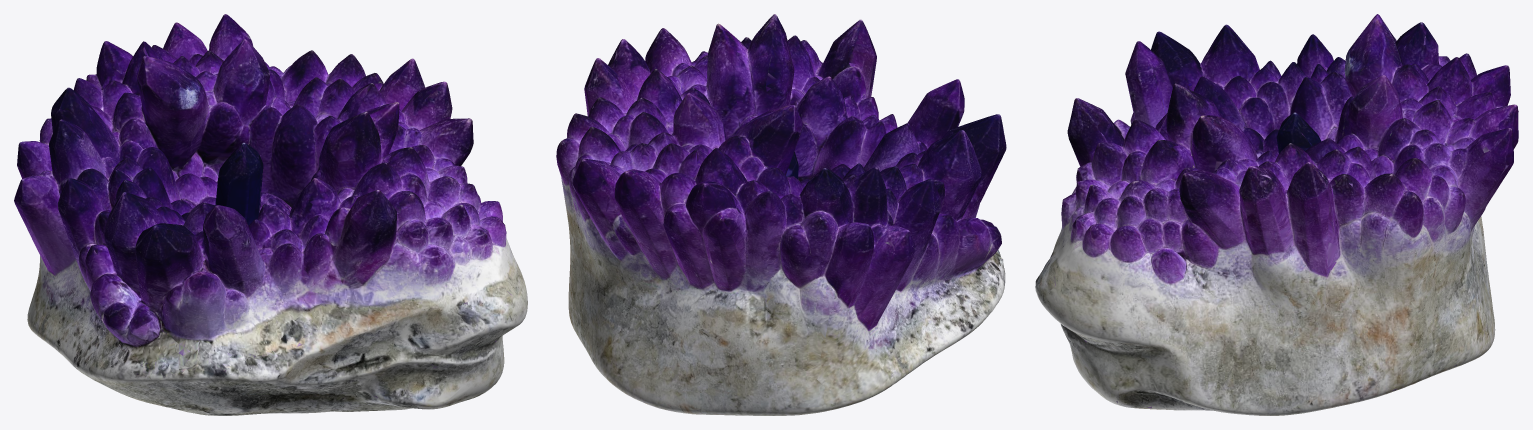
Rendered from amethyst.glb.
3 renders of one model, left to right at view 1: azimuth 30°, elevation 25°; view 2: azimuth 150°, elevation 25°; view 3: azimuth 270°, elevation 25°, orthographic.
Parts seen in each view (by area): view 1: amethyst; view 2: amethyst; view 3: amethyst.
Part boxes in pixels (x1,y1,x2,y2): amethyst: (14,14,527,415); amethyst: (556,14,1006,415); amethyst: (1035,14,1518,415).
Bounding box in the file's own units: 0.9037 × 0.7082 × 1.
Materials: 1 (1 with a texture image).
